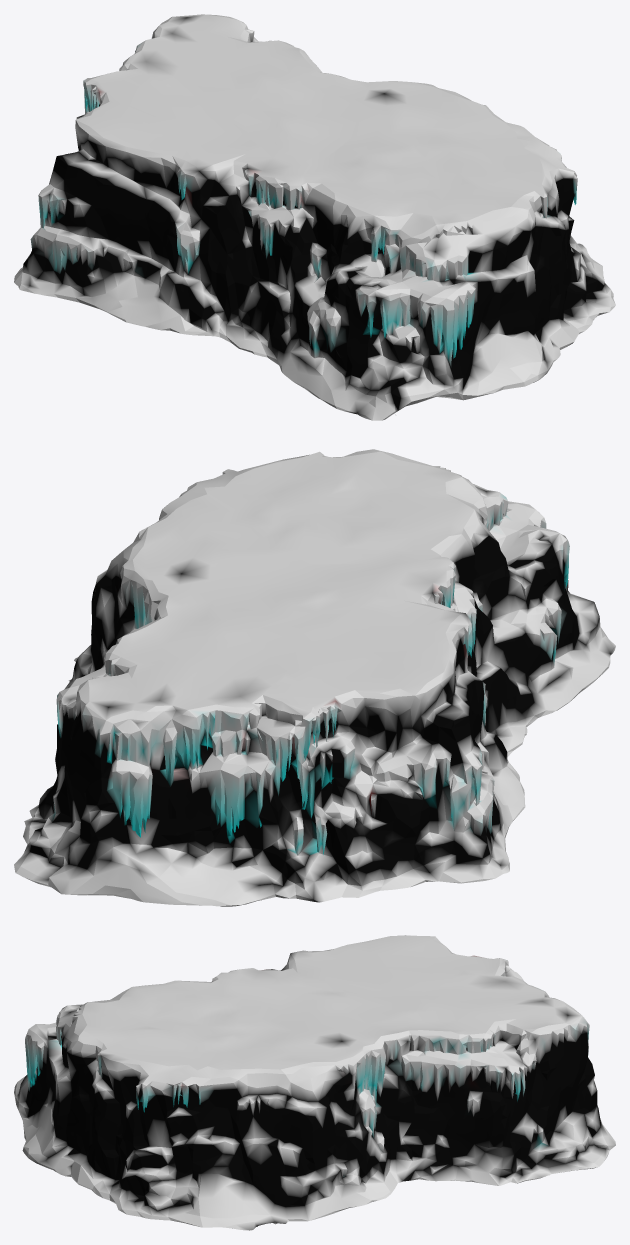
Rendered from CliffIce2_1.fbx.
3 renders of one model, top to bottom at view 1: azimuth 30°, elevation 25°; view 2: azimuth 150°, elevation 25°; view 3: azimuth 270°, elevation 25°, orthographic. The views are drawn at different scales.
Visible parts, largest first — view 1: CliffIce2_1_LOD0; view 2: CliffIce2_1_LOD0; view 3: CliffIce2_1_LOD0.
Boxes of the visible parts, bbox=[...] form: CliffIce2_1_LOD0: bbox=[14, 14, 615, 420]; CliffIce2_1_LOD0: bbox=[14, 449, 615, 906]; CliffIce2_1_LOD0: bbox=[14, 935, 615, 1230].
Size of what is drawn, in the model's own units: 1569 by 480 by 2015.
